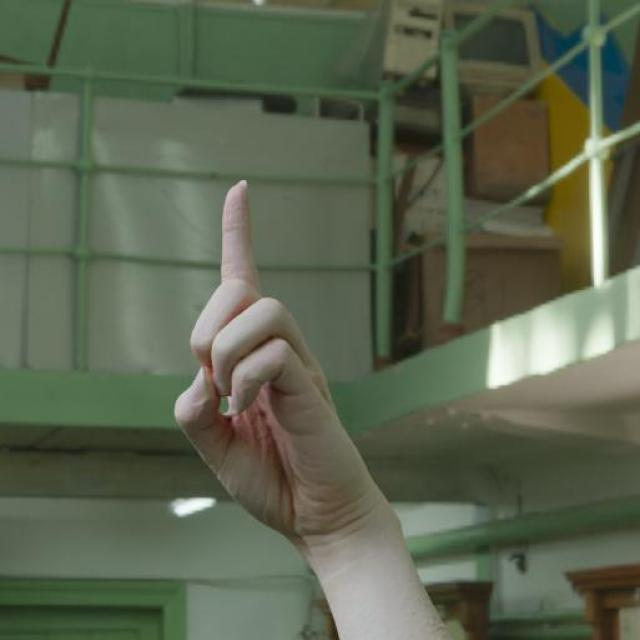D: (165, 176, 370, 558)
